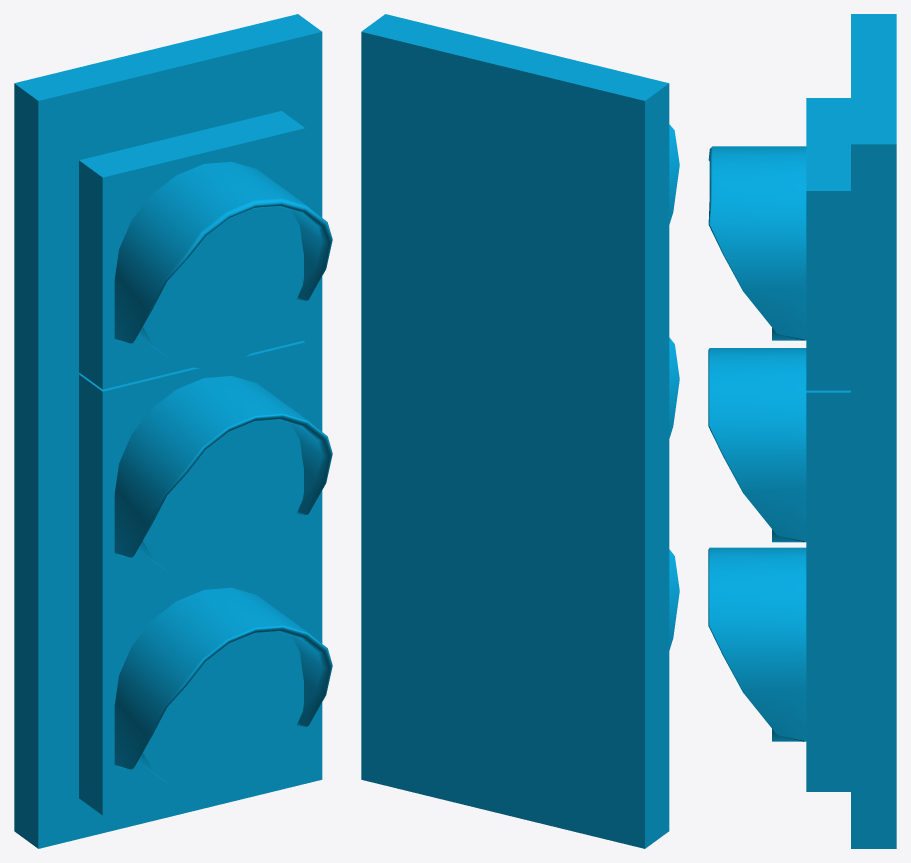
Rendered from SL_Lights_Grp_Lod0.fbx.
3 views of the same model, side by side, from view 1: azimuth 30°, elevation 25°; view 2: azimuth 150°, elevation 25°; view 3: azimuth 270°, elevation 25° (orthographic). The views are drawn at different scales.
Visible parts, largest first — view 1: SL_Lights_Grp_Lod0; view 2: SL_Lights_Grp_Lod0; view 3: SL_Lights_Grp_Lod0.
Part boxes in pixels (x1,y1,x2,y2): SL_Lights_Grp_Lod0: [14, 14, 332, 848]; SL_Lights_Grp_Lod0: [361, 14, 679, 848]; SL_Lights_Grp_Lod0: [708, 14, 896, 848].
Size of the model in its own units: 51.7 by 130 by 31.54.
